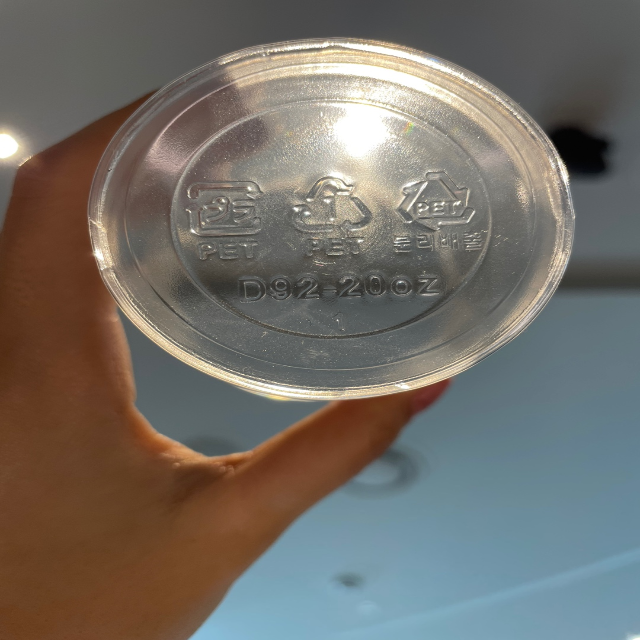pet: (387, 164, 488, 254), (176, 173, 270, 266), (287, 167, 376, 264)
